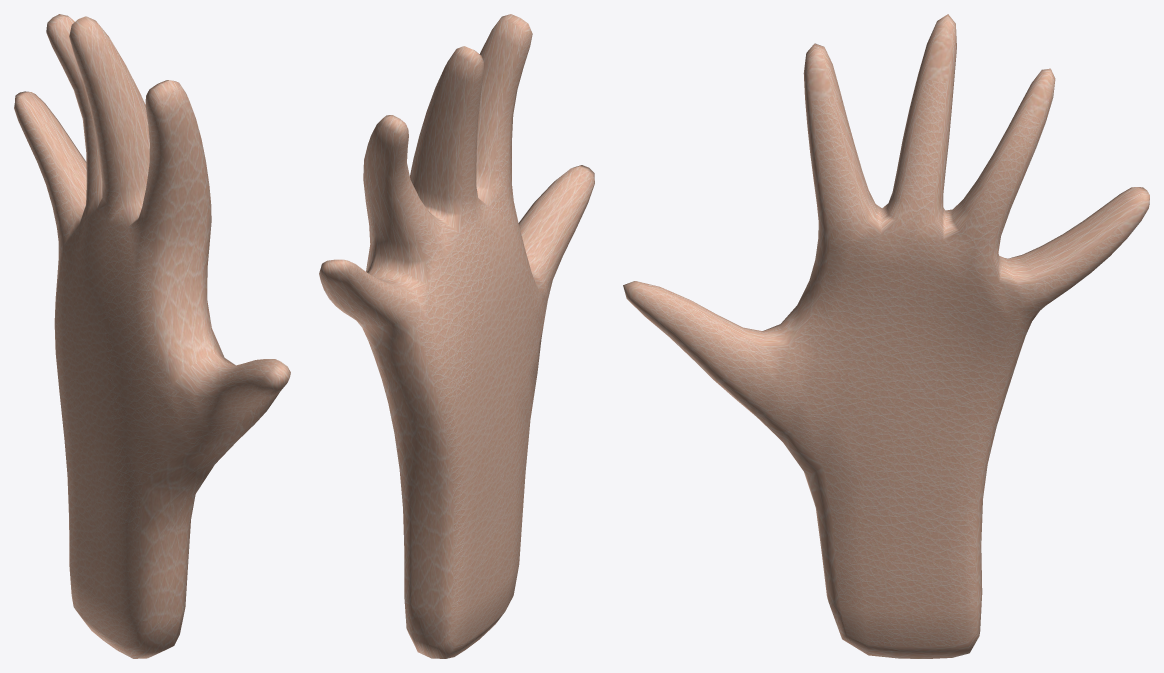
Rendered from rightHand.fbx.
3 views of the same model, side by side, from view 1: azimuth 30°, elevation 25°; view 2: azimuth 150°, elevation 25°; view 3: azimuth 270°, elevation 25° (orthographic).
Visible parts, largest first — view 1: Cube; view 2: Cube; view 3: Cube.
Part boxes in pixels (left/top/right/bottom): Cube: left=14, top=14, right=290, bottom=658; Cube: left=319, top=14, right=594, bottom=658; Cube: left=623, top=14, right=1149, bottom=658.
Size of the model in its own units: 60.65 by 389 by 296.
